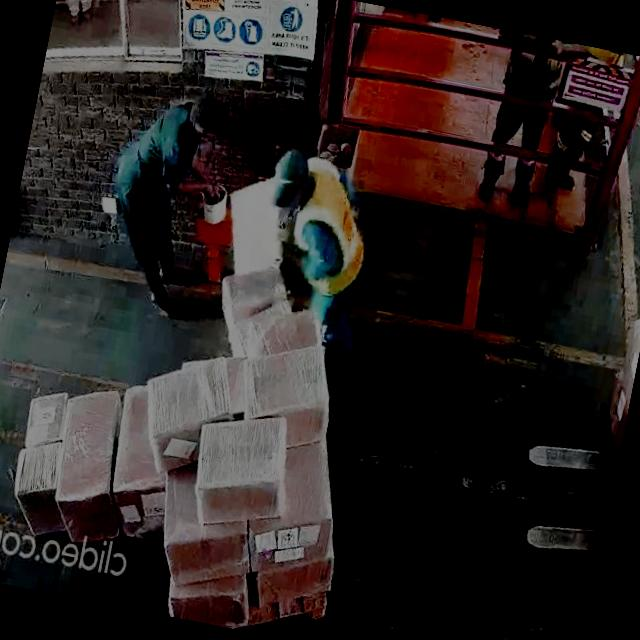Box: (179, 402, 295, 536), (52, 389, 130, 539), (238, 328, 344, 436), (142, 346, 235, 450), (247, 497, 338, 578), (162, 514, 252, 594), (8, 436, 68, 540), (254, 542, 338, 614), (170, 574, 250, 630), (17, 379, 74, 451)
